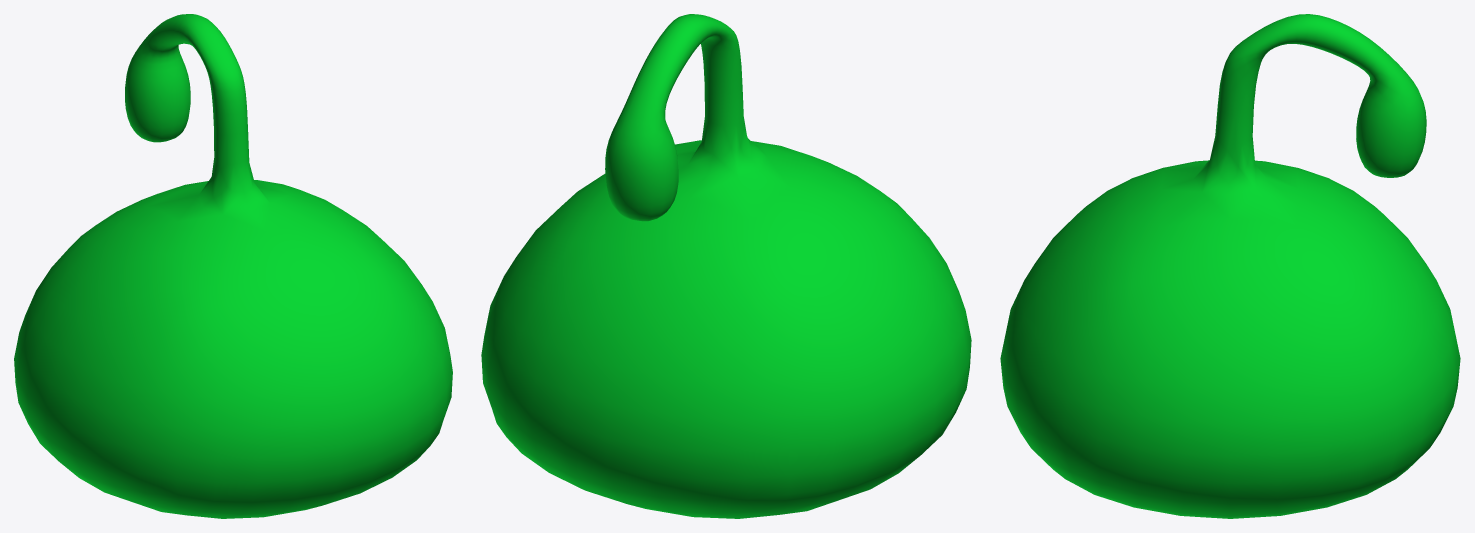
File: Slime_new.fbx
3 renders of one model, left to right at view 1: azimuth 30°, elevation 25°; view 2: azimuth 150°, elevation 25°; view 3: azimuth 270°, elevation 25°, orthographic. The views are drawn at different scales.
Visible parts, largest first — view 1: Cube; view 2: Cube; view 3: Cube.
Boxes of the visible parts, bbox=[...] form: Cube: bbox=[14, 14, 452, 518]; Cube: bbox=[481, 14, 971, 518]; Cube: bbox=[1000, 14, 1460, 518].
Size of the model in its own units: 285 by 316 by 285.
